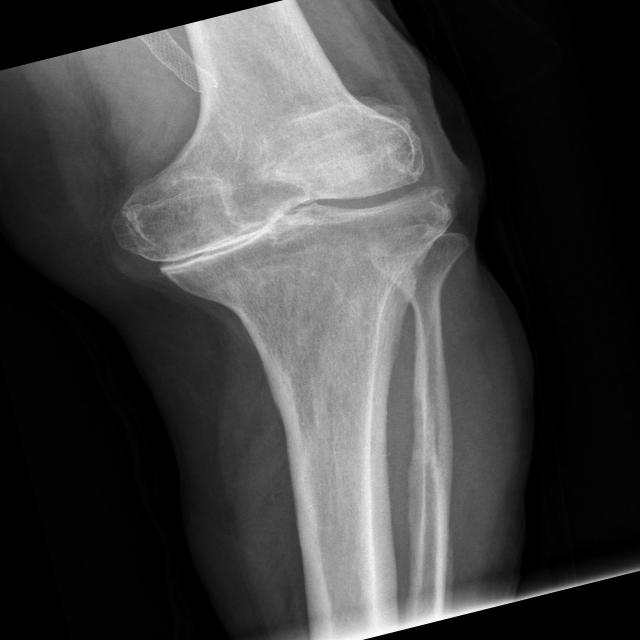Knee: (94, 92, 470, 348)
